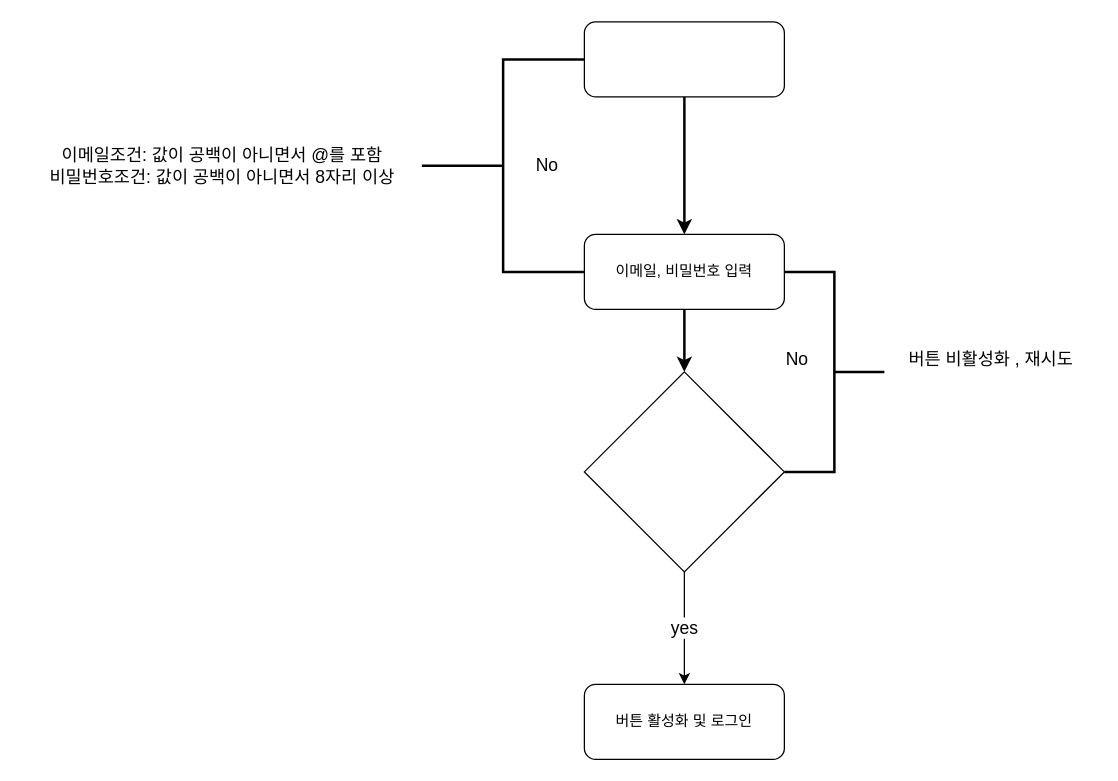
The diagram is 1118 pixels wide and 781 high, and some of its shapes have lost their labels. Here are the shapes that lost their labels. From the top down, the centre of each, then its label:
At (683,59): "로그인 창 버튼 비활성화".
At (683,471): "이메일과 비밀번호가 일치하는지 검증".
